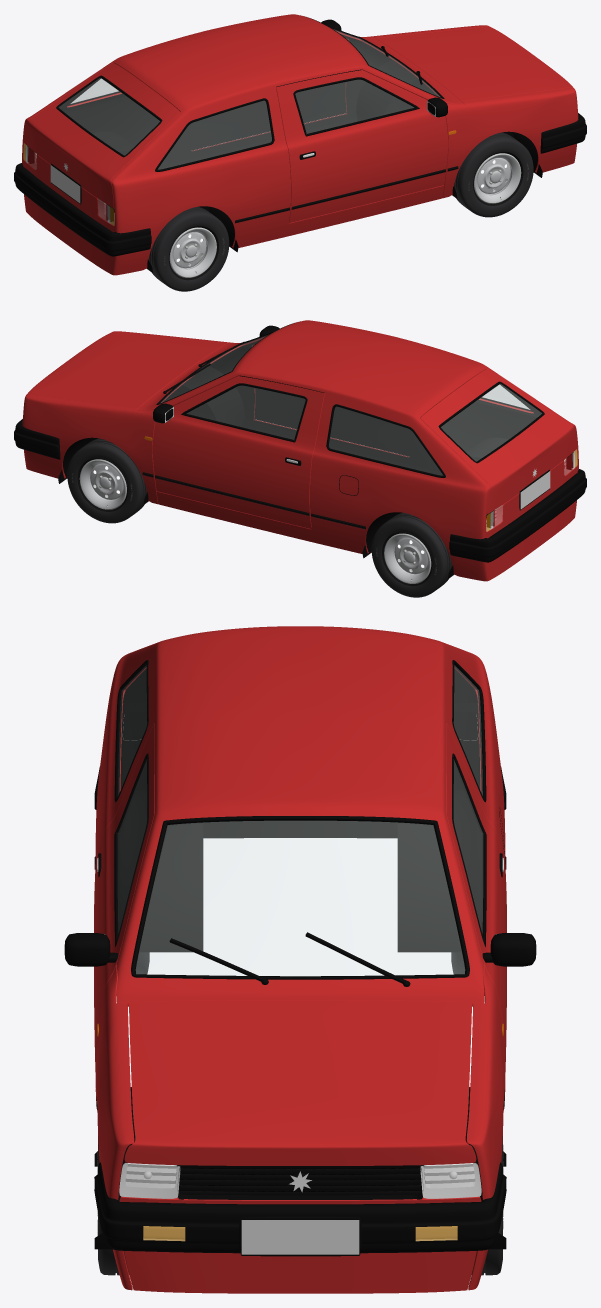
The model's file is cuiabano-molde.glb.
3 views of the same model, one above another, from view 1: azimuth 30°, elevation 25°; view 2: azimuth 150°, elevation 25°; view 3: azimuth 270°, elevation 25° (orthographic). The views are drawn at different scales.
Parts seen in each view (by area): view 1: body, door_fr, hood, trunk, fender_front_right, glass_door_rr, glass_rear, glass_door_fr, door_fl, bumper_rear, wheel_rr_tire, wheel_fr_tire (+7 smaller); view 2: body, door_fl, hood, trunk, fender_front_left, glass_door_rl, glass_rear, glass_door_fl, door_fr, bumper_rear, wheel_rl_tire, wheel_fl_tire (+7 smaller); view 3: body, hood, glass_windshield, bumper_front, grille, fender_front_left, fender_front_right, plate_front, door_fl, door_fr, glass_door_fl, glass_door_fr (+9 smaller).
Part boxes in pixels (bbox=[...]): body: bbox=[22, 14, 542, 275]; door_fr: bbox=[276, 70, 448, 222]; hood: bbox=[376, 26, 573, 101]; trunk: bbox=[24, 62, 180, 207]; fender_front_right: bbox=[442, 87, 578, 198]; glass_door_rr: bbox=[155, 98, 274, 171]; glass_rear: bbox=[56, 75, 162, 157]; glass_door_fr: bbox=[293, 77, 419, 136]; door_fl: bbox=[189, 38, 348, 150]; bumper_rear: bbox=[14, 163, 151, 256]; wheel_rr_tire: bbox=[148, 206, 229, 291]; wheel_fr_tire: bbox=[454, 132, 533, 217]; body: bbox=[58, 320, 578, 581]; door_fl: bbox=[152, 376, 324, 528]; hood: bbox=[27, 332, 224, 407]; trunk: bbox=[420, 368, 576, 513]; fender_front_left: bbox=[22, 393, 158, 504]; glass_door_rl: bbox=[326, 404, 445, 477]; glass_rear: bbox=[438, 381, 544, 463]; glass_door_fl: bbox=[181, 383, 307, 442]; door_fr: bbox=[252, 344, 411, 456]; bumper_rear: bbox=[449, 469, 586, 562]; wheel_rl_tire: bbox=[371, 512, 452, 597]; wheel_fl_tire: bbox=[67, 438, 146, 523]; body: bbox=[94, 626, 506, 1293]; hood: bbox=[124, 1000, 476, 1165]; glass_windshield: bbox=[131, 816, 469, 979]; bumper_front: bbox=[94, 1162, 506, 1253]; grille: bbox=[178, 1165, 422, 1199]; fender_front_left: bbox=[466, 964, 505, 1290]; fender_front_right: bbox=[95, 964, 134, 1290]; plate_front: bbox=[239, 1216, 361, 1256]; door_fl: bbox=[446, 723, 506, 1061]; door_fr: bbox=[94, 723, 154, 1061]; glass_door_fl: bbox=[452, 753, 486, 946]; glass_door_fr: bbox=[114, 753, 148, 946].
Size of the model in its own units: 3.82 by 1.36 by 1.6.
38 materials, 1 textured.
